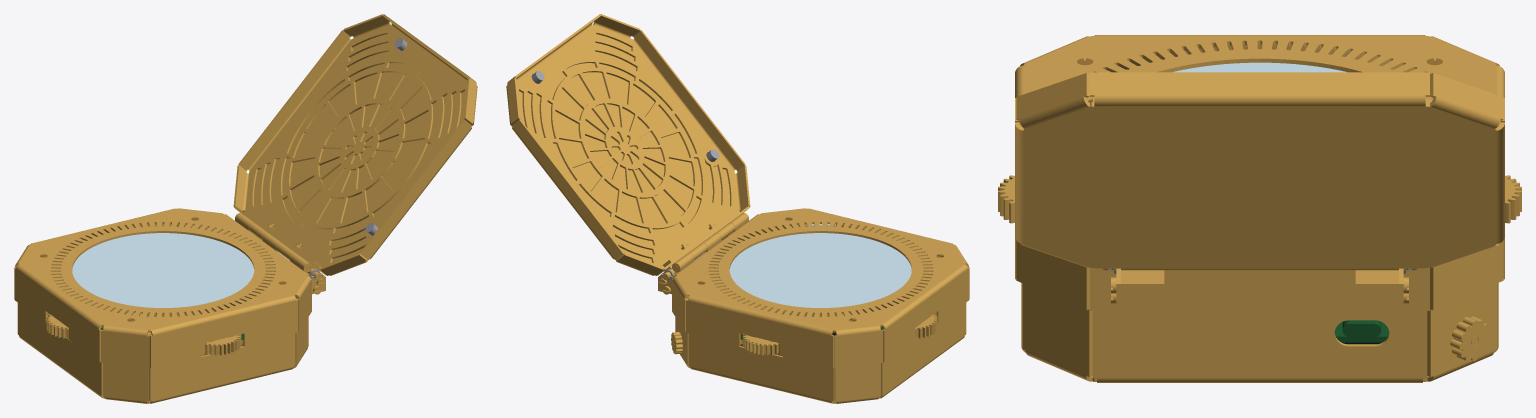
File: alethiometer_open.glb
The picture shows the model from 3 angles, left to right: view 1: azimuth 30°, elevation 25°; view 2: azimuth 150°, elevation 25°; view 3: azimuth 270°, elevation 25°; orthographic projection. The views are drawn at different scales.
Visible parts, largest first — view 1: case_upper_shell_0, case_lid_0, lid_overlay_0, crystal_0, case_lower_tray_0, hinge_leaf_body_0; view 2: case_upper_shell_0, case_lid_0, lid_overlay_0, crystal_0, case_lower_tray_0, hinge_leaf_body_0; view 3: case_lid_0, case_lower_tray_0, case_upper_shell_0, hinge_leaf_body_0, hinge_mount_block_a_0, hinge_mount_block_b_0, crystal_0, usb_c_breakout_0, crown_cap_disc_2, hinge_stop_pin_0.
Boxes of the visible parts, <box> form: case_upper_shell_0: <box>14,208,311,368</box>; case_lid_0: <box>233,14,477,275</box>; lid_overlay_0: <box>245,25,467,266</box>; crystal_0: <box>72,233,254,307</box>; case_lower_tray_0: <box>17,298,308,403</box>; hinge_leaf_body_0: <box>235,213,311,272</box>; case_upper_shell_0: <box>672,208,969,368</box>; case_lid_0: <box>506,14,750,275</box>; lid_overlay_0: <box>516,25,738,266</box>; crystal_0: <box>729,233,911,307</box>; case_lower_tray_0: <box>675,298,966,403</box>; hinge_leaf_body_0: <box>672,213,748,272</box>; case_lid_0: <box>1015,72,1504,268</box>; case_lower_tray_0: <box>1021,283,1498,382</box>; case_upper_shell_0: <box>1015,35,1504,310</box>; hinge_leaf_body_0: <box>1164,270,1355,292</box>; hinge_mount_block_a_0: <box>1121,270,1164,311</box>; hinge_mount_block_b_0: <box>1355,270,1398,311</box>; crystal_0: <box>1173,62,1346,72</box>; usb_c_breakout_0: <box>1334,320,1389,342</box>; crown_cap_disc_2: <box>1456,319,1490,361</box>; hinge_stop_pin_0: <box>1103,268,1416,270</box>.
Size of the model in its own units: 205 by 119 by 121.
